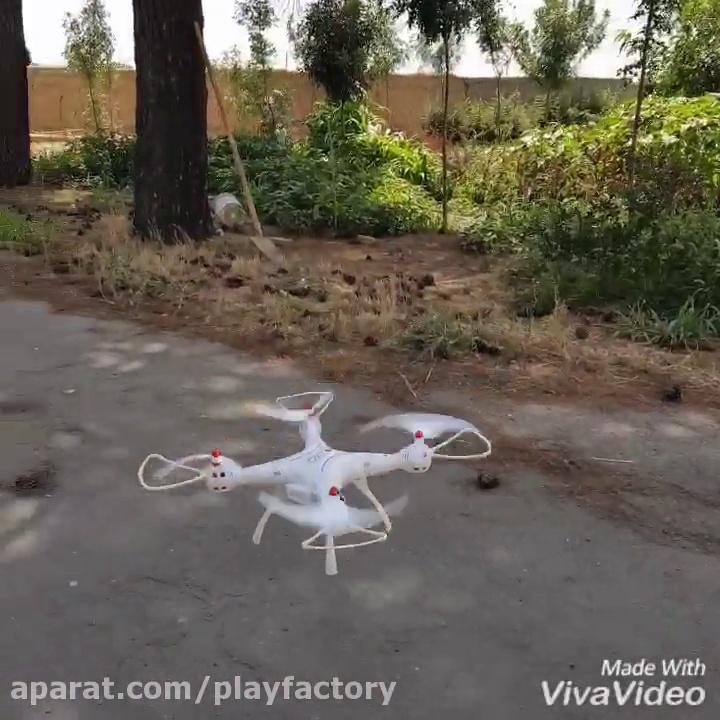drone: (136, 390, 493, 574)
